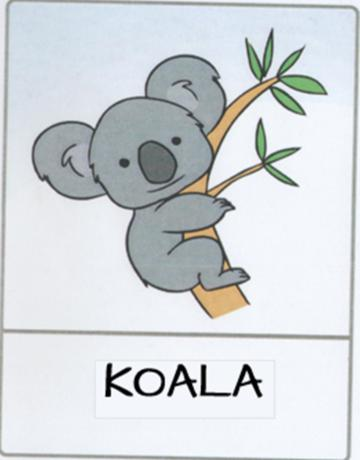koala: (1, 2, 360, 460)
